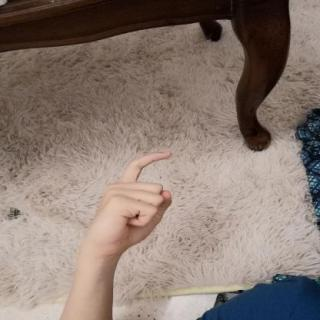RAA: (76, 147, 181, 261)
